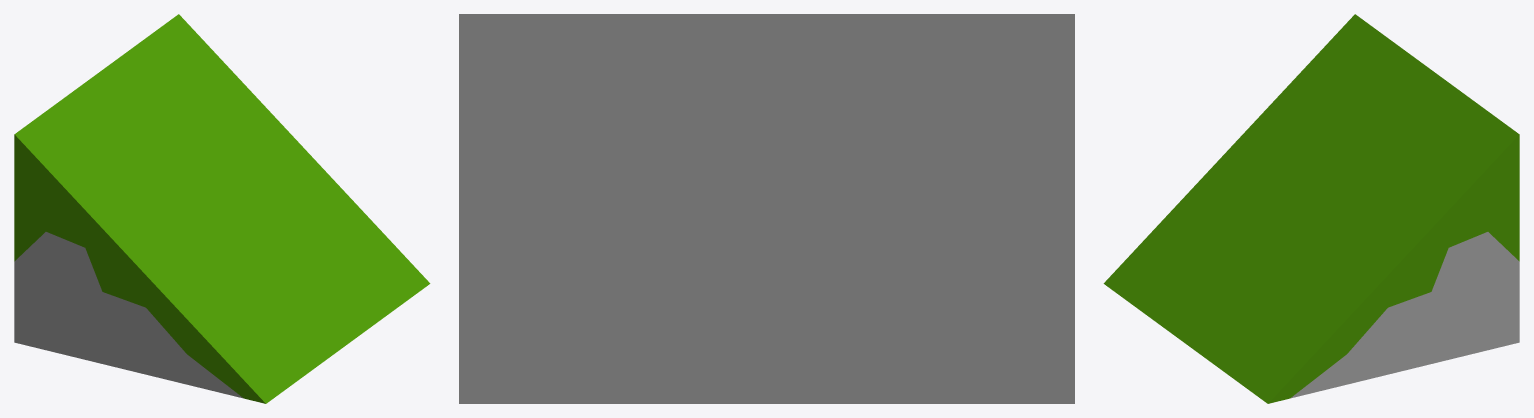
The model's file is RPG_Tiles_Hex_Stone_Ramp_Covered_01.FBX.
3 views of the same model, side by side, from view 1: azimuth 30°, elevation 25°; view 2: azimuth 150°, elevation 25°; view 3: azimuth 270°, elevation 25° (orthographic). The views are drawn at different scales.
Parts seen in each view (by area): view 1: RPG_Tiles_Hex_Stone_Ramp_Covered_01; view 2: RPG_Tiles_Hex_Stone_Ramp_Covered_01; view 3: RPG_Tiles_Hex_Stone_Ramp_Covered_01.
Part boxes in pixels (x1,y1,x2,y2): RPG_Tiles_Hex_Stone_Ramp_Covered_01: (14,14,430,403); RPG_Tiles_Hex_Stone_Ramp_Covered_01: (459,14,1074,403); RPG_Tiles_Hex_Stone_Ramp_Covered_01: (1103,14,1519,403).
Size of the model in its own units: 2220 by 1186 by 2148.
